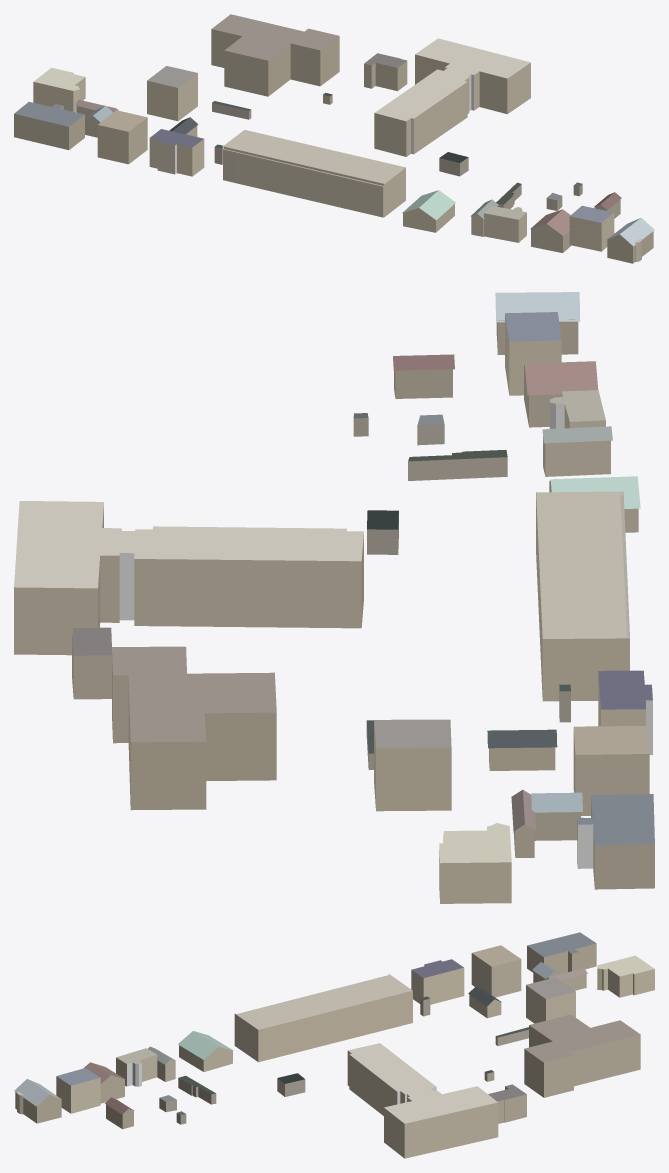
The picture shows the model from 3 angles, top to bottom: view 1: azimuth 30°, elevation 25°; view 2: azimuth 150°, elevation 25°; view 3: azimuth 270°, elevation 25°; orthographic projection. The views are drawn at different scales.
Parts seen in each view (by area): view 1: tuile; view 2: tuile; view 3: tuile.
Part boxes in pixels (x1,y1,x2,y2): tuile: [14, 14, 654, 263]; tuile: [14, 292, 654, 903]; tuile: [14, 932, 654, 1158].
Bounding box in the file's own units: 181 × 16.72 × 240.
